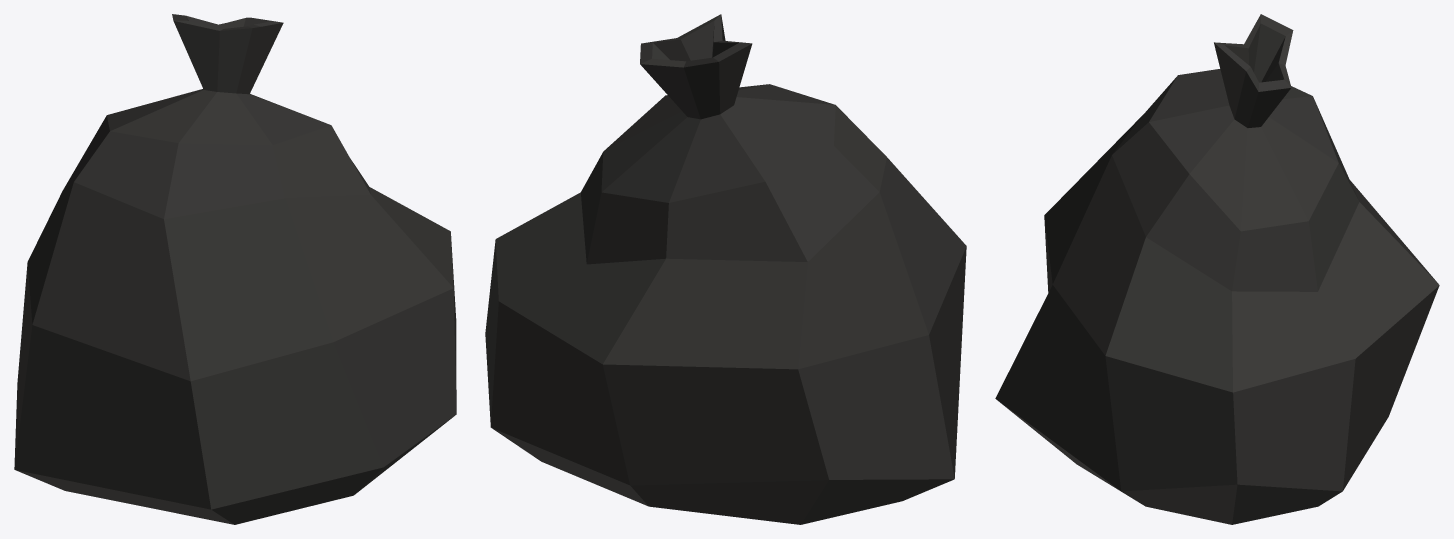
Rendered from Trash_Bag_3.fbx.
3 views of the same model, side by side, from view 1: azimuth 30°, elevation 25°; view 2: azimuth 150°, elevation 25°; view 3: azimuth 270°, elevation 25° (orthographic). The views are drawn at different scales.
Visible parts, largest first — view 1: Trash_Bag_3; view 2: Trash_Bag_3; view 3: Trash_Bag_3.
Part boxes in pixels (x1,y1,x2,y2): Trash_Bag_3: (14, 14, 456, 524); Trash_Bag_3: (485, 14, 966, 524); Trash_Bag_3: (995, 14, 1439, 524).
Size of the model in its own units: 63.83 by 57.94 by 56.84.
1 material, 1 textured.
